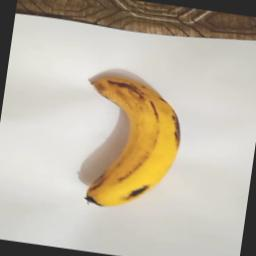Banana Unripe: (70, 64, 189, 216)
